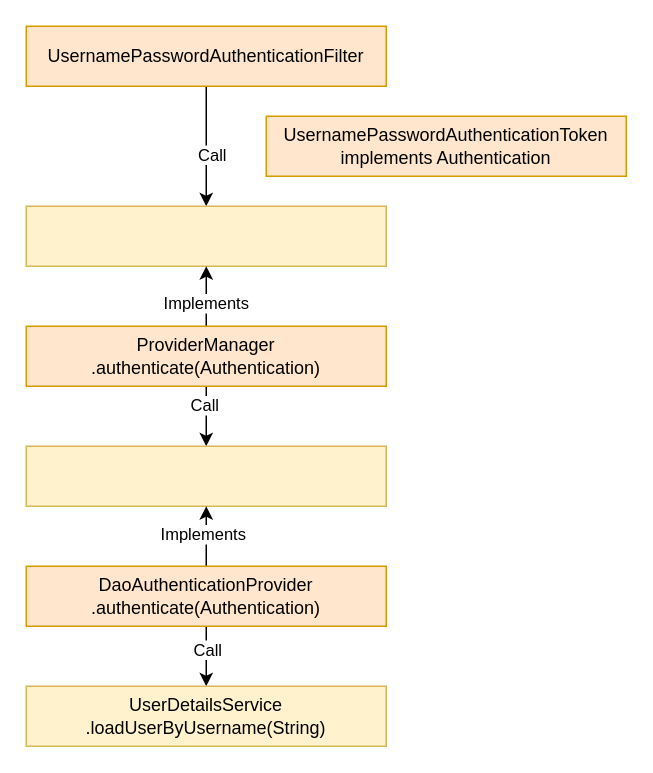
Image size: 653x773. Some labels were removed from this diagram. The centre of each missing label's shape, as x and y in pixels:
"AuthenticationManager .authenticate(Authentication)" goes at (x=205, y=235).
"AuthenticationProvider .authenticate(Authentication)" goes at (x=205, y=475).
